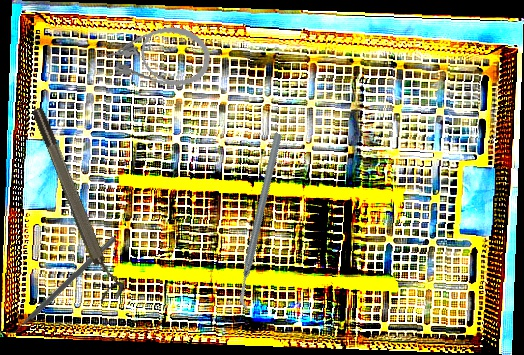Cannula: (96, 16, 215, 91)
Chopper: (179, 131, 344, 313)
Fixation Ring: (27, 101, 129, 306)
Spatula Surgical: (4, 231, 117, 341)
